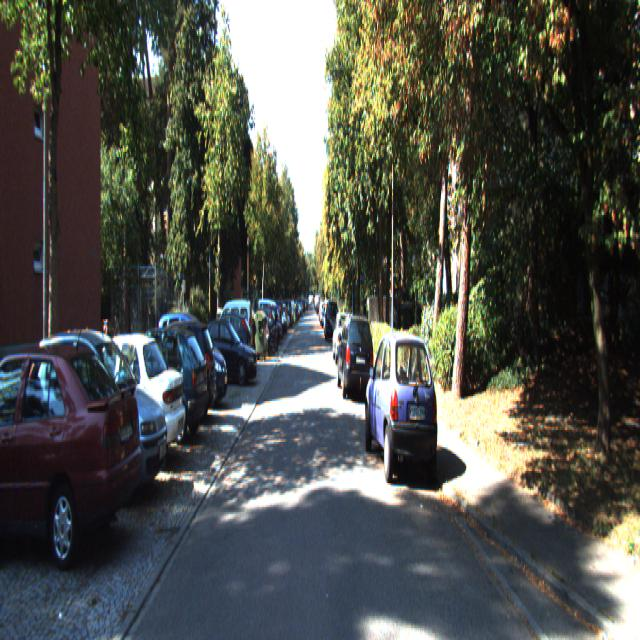Car: (0, 332, 145, 564), (26, 320, 174, 503), (60, 325, 188, 472), (107, 319, 210, 446), (364, 322, 441, 487), (194, 314, 260, 387), (202, 310, 252, 380), (336, 314, 375, 401), (210, 297, 253, 367), (332, 311, 356, 365), (325, 299, 339, 341)
